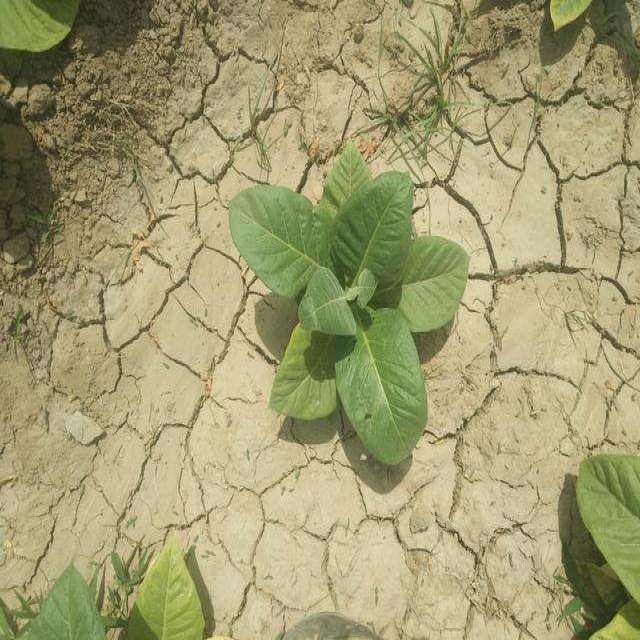crop: (236, 147, 464, 466), (30, 555, 208, 640), (578, 442, 640, 640), (2, 8, 83, 56), (545, 0, 601, 34)
